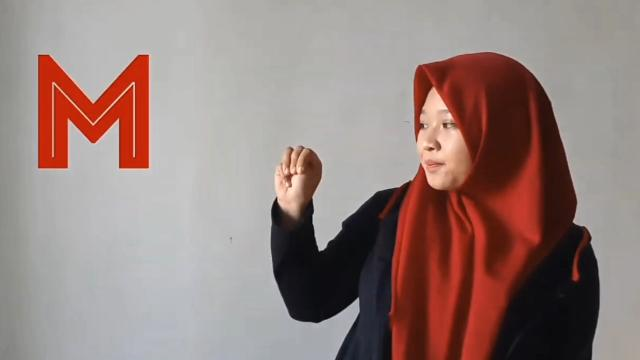M: (272, 143, 324, 201)
